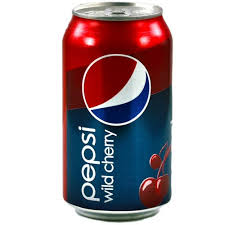can: (60, 1, 175, 222)
